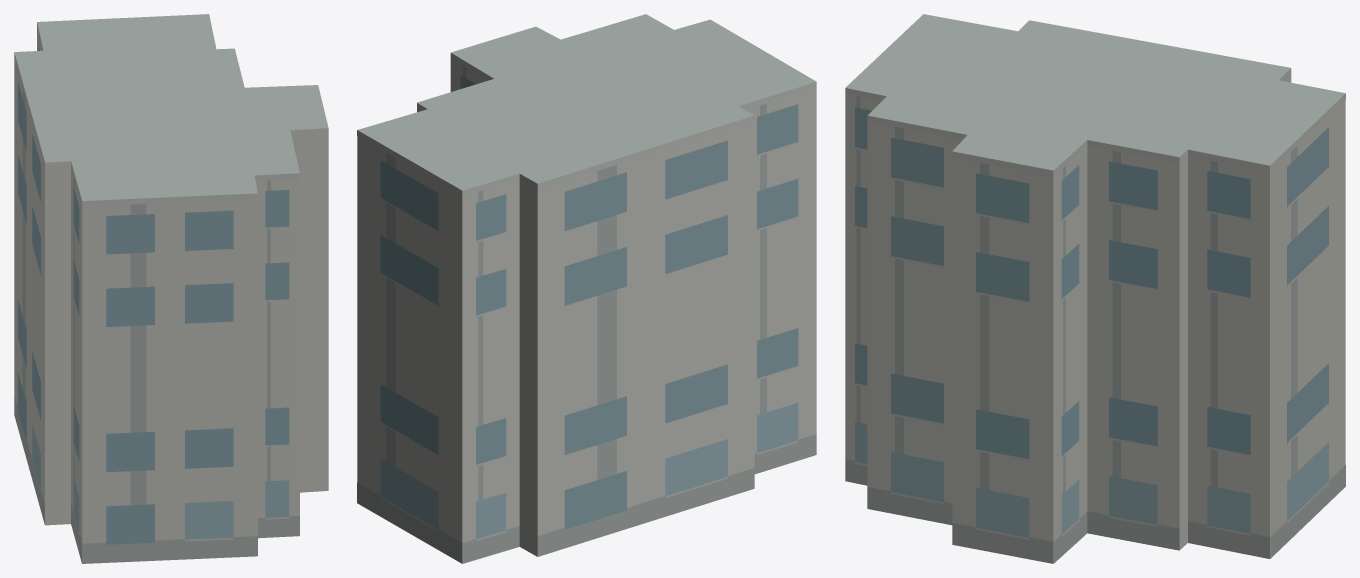
The model's file is survey-upis-32481628.glb.
The picture shows the model from 3 angles, left to right: view 1: azimuth 30°, elevation 25°; view 2: azimuth 150°, elevation 25°; view 3: azimuth 270°, elevation 25°; orthographic projection. The views are drawn at different scales.
Visible parts, largest first — view 1: survey-upis-32481628.tmp; view 2: survey-upis-32481628.tmp; view 3: survey-upis-32481628.tmp.
Part boxes in pixels (left/top/right/bottom): survey-upis-32481628.tmp: left=14, top=14, right=328, bottom=563; survey-upis-32481628.tmp: left=357, top=14, right=816, bottom=563; survey-upis-32481628.tmp: left=845, top=14, right=1345, bottom=563.
Bounding box in the file's own units: 13.03 × 15.25 × 17.6.
